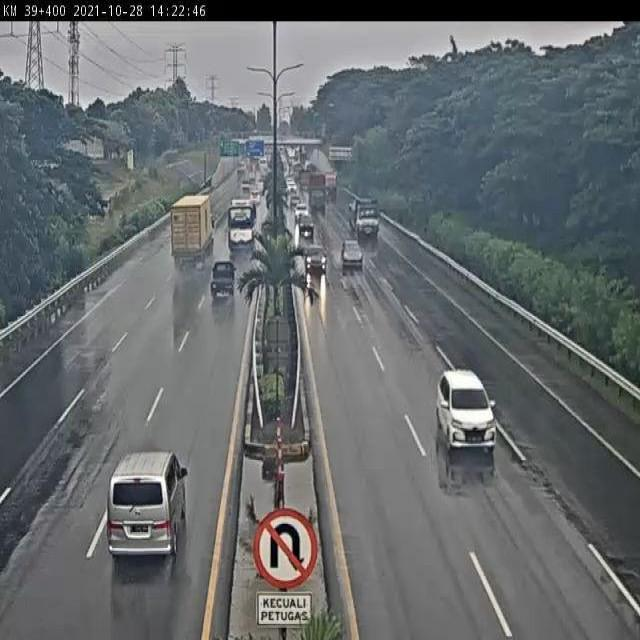car: (433, 366, 502, 458), (211, 260, 237, 303)
truck: (170, 191, 216, 267), (226, 196, 260, 253)
